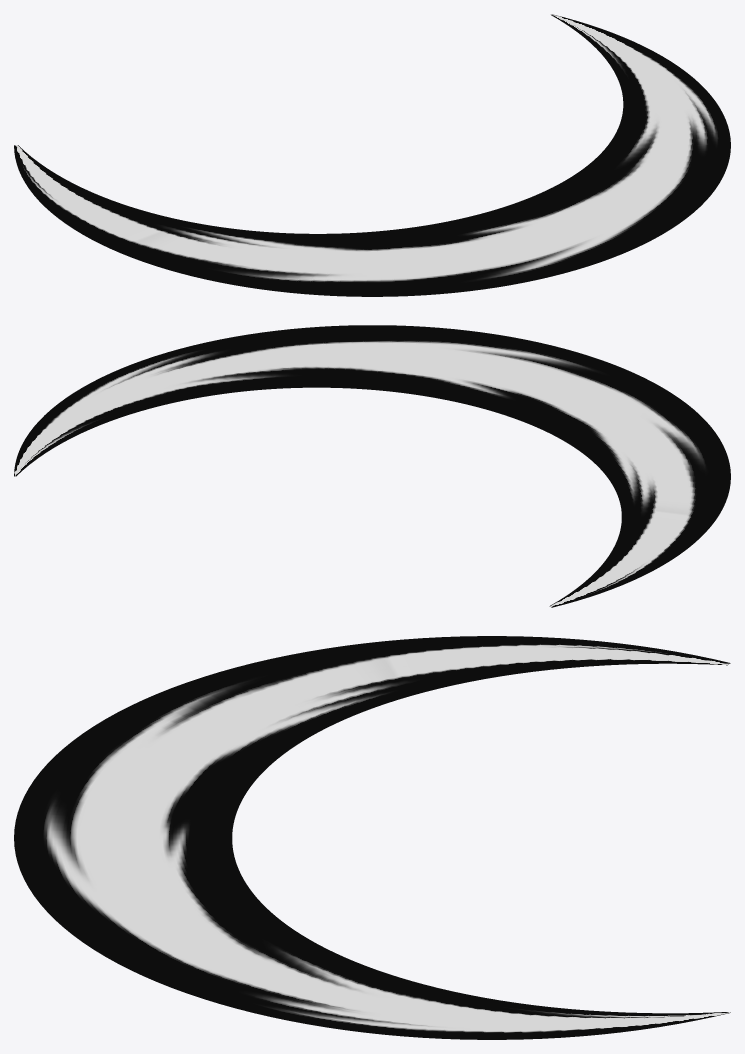
File: exm_nv_daoguang004.FBX
3 renders of one model, top to bottom at view 1: azimuth 30°, elevation 25°; view 2: azimuth 150°, elevation 25°; view 3: azimuth 270°, elevation 25°, orthographic. The views are drawn at different scales.
Parts seen in each view (by area): view 1: exm_nv_daoguang004; view 2: exm_nv_daoguang004; view 3: exm_nv_daoguang004.
Boxes of the visible parts, left/top/right/bottom form: exm_nv_daoguang004: left=14, top=14, right=730, bottom=296; exm_nv_daoguang004: left=14, top=325, right=730, bottom=607; exm_nv_daoguang004: left=14, top=636, right=730, bottom=1039.
Size of the model in its own units: 341 by 0.0308 by 256.
